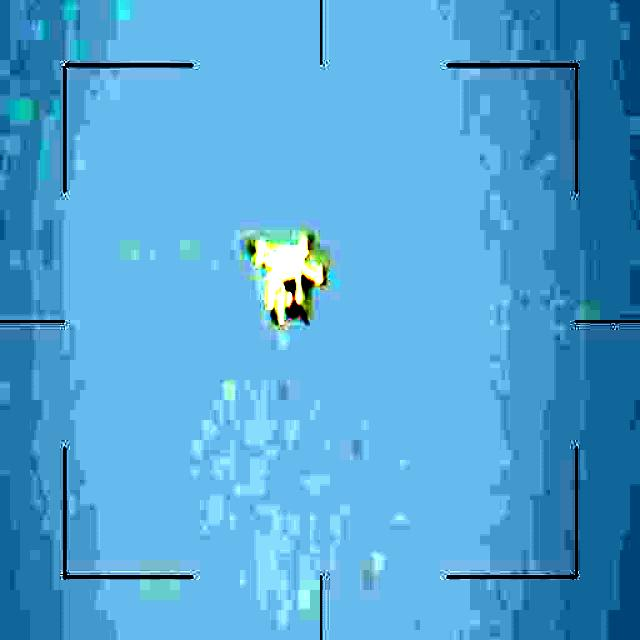bird: (252, 228, 340, 326)
